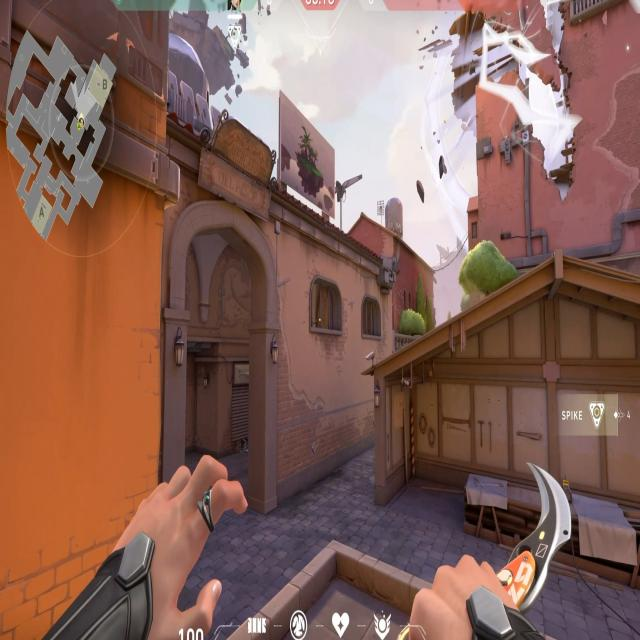B_Garage_Left: (374, 373, 513, 545)
Throwables: (309, 272, 345, 344), (358, 292, 385, 346)
